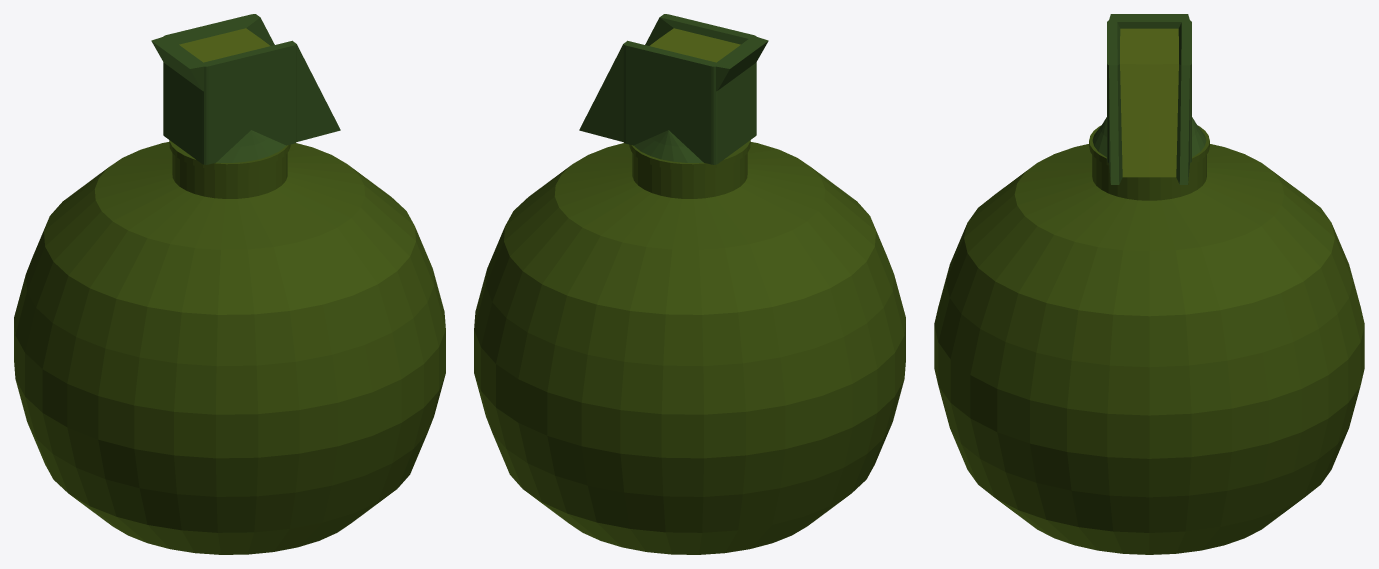
File: Grenade.fbx
3 renders of one model, left to right at view 1: azimuth 30°, elevation 25°; view 2: azimuth 150°, elevation 25°; view 3: azimuth 270°, elevation 25°, orthographic.
Visible parts, largest first — view 1: Cylinder, Cube; view 2: Cylinder, Cube; view 3: Cylinder, Cube.
Part boxes in pixels (<box>): Cylinder: <box>14,140,445,554</box>; Cube: <box>151,14,340,164</box>; Cylinder: <box>474,140,905,554</box>; Cube: <box>579,14,768,164</box>; Cylinder: <box>934,125,1364,554</box>; Cube: <box>1092,14,1206,184</box>.
Bounding box in the file's own units: 200 × 242 × 200.
